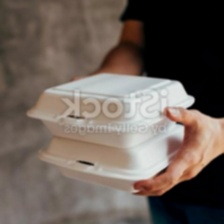foam_box: (24, 69, 202, 150), (34, 118, 197, 195)
